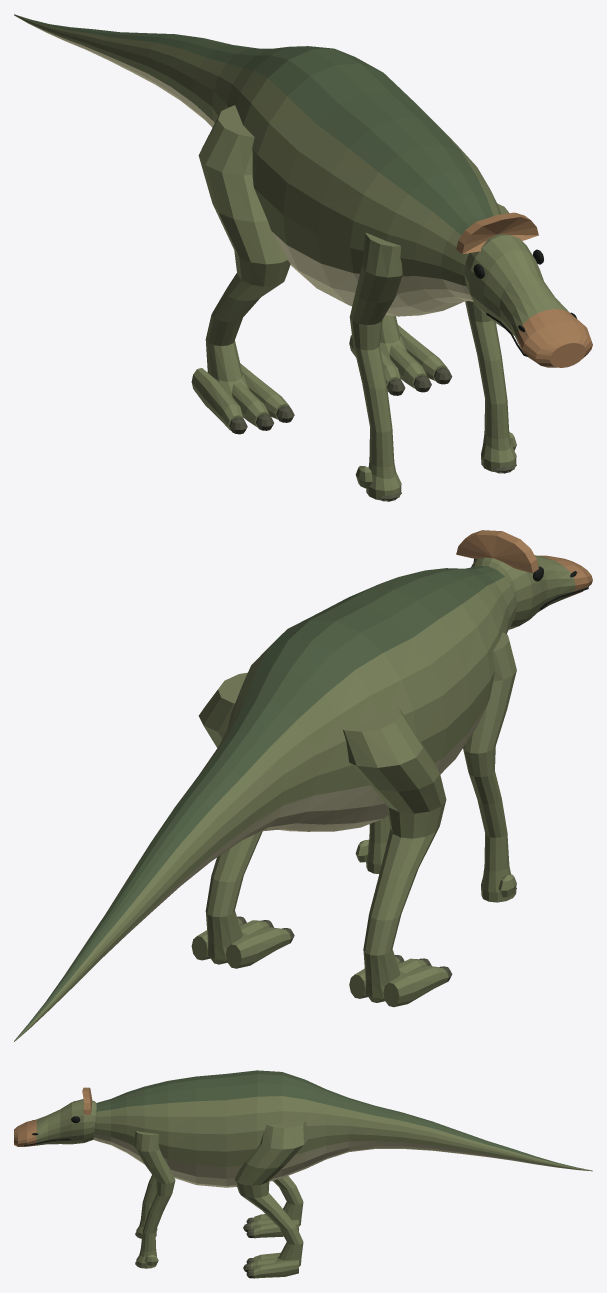
3 renders of one model, top to bottom at view 1: azimuth 30°, elevation 25°; view 2: azimuth 150°, elevation 25°; view 3: azimuth 270°, elevation 25°, orthographic. The views are drawn at different scales.
Parts seen in each view (by area): view 1: Torso_neck_and_balancing_tail, Four_limbs_with_anatomical_joints, Long_face_deep_jaw_broad_bill, Hind_toes_and_bound_forefeet, Adult_transverse_concave_crest, Blunt_hoof_caps; view 2: Torso_neck_and_balancing_tail, Four_limbs_with_anatomical_joints, Hind_toes_and_bound_forefeet, Long_face_deep_jaw_broad_bill, Adult_transverse_concave_crest; view 3: Torso_neck_and_balancing_tail, Four_limbs_with_anatomical_joints, Long_face_deep_jaw_broad_bill, Hind_toes_and_bound_forefeet, Blunt_hoof_caps.
Boxes of the visible parts, x1,y1,x2,y2 form: Torso_neck_and_balancing_tail: (14,14,501,316); Four_limbs_with_anatomical_joints: (198,105,510,478); Long_face_deep_jaw_broad_bill: (464,234,592,367); Hind_toes_and_bound_forefeet: (191,325,516,500); Adult_transverse_concave_crest: (456,212,538,254); Blunt_hoof_caps: (229,367,516,501); Torso_neck_and_balancing_tail: (14,566,516,1041); Four_limbs_with_anatomical_joints: (198,632,516,998); Hind_toes_and_bound_forefeet: (191,839,516,1007); Long_face_deep_jaw_broad_bill: (471,555,592,629); Adult_transverse_concave_crest: (456,530,538,573); Torso_neck_and_balancing_tail: (93,1070,592,1187); Four_limbs_with_anatomical_joints: (134,1120,307,1266); Long_face_deep_jaw_broad_bill: (14,1099,96,1146); Hind_toes_and_bound_forefeet: (136,1214,298,1278); Blunt_hoof_caps: (135,1217,253,1278).
Bounding box in the file's own units: 2.07 × 3.05 × 9.
